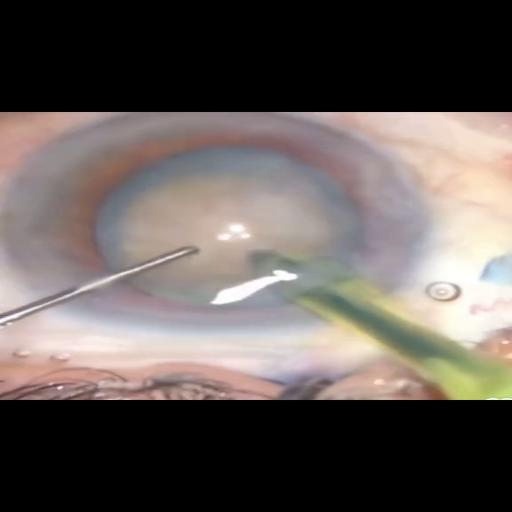catarata: (96, 148, 358, 313)
cornea: (0, 108, 436, 335)
pupil: (61, 132, 380, 315)
